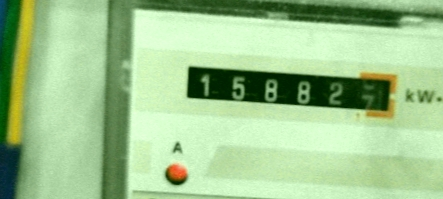1: (196, 70, 212, 96)
2: (326, 78, 343, 103)
5: (228, 72, 246, 99)
7: (359, 89, 374, 109)
8: (261, 75, 279, 102), (294, 77, 311, 103)
screen: (169, 47, 406, 128)
